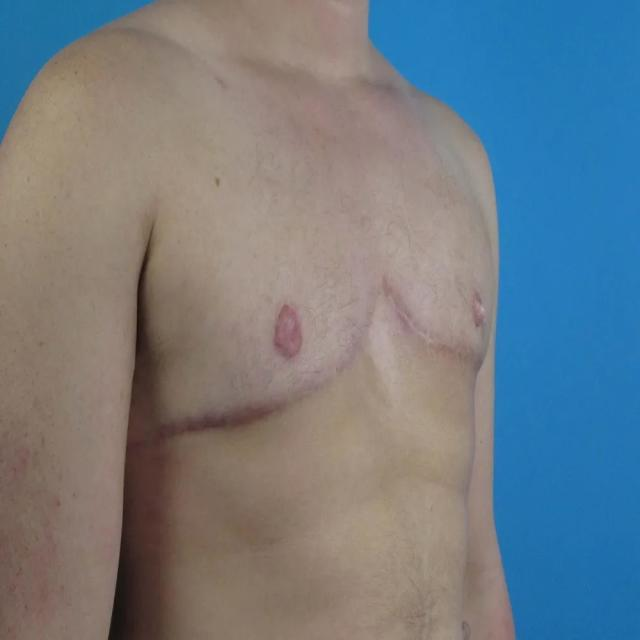Seno herido: (120, 167, 377, 477), (381, 152, 504, 395)
